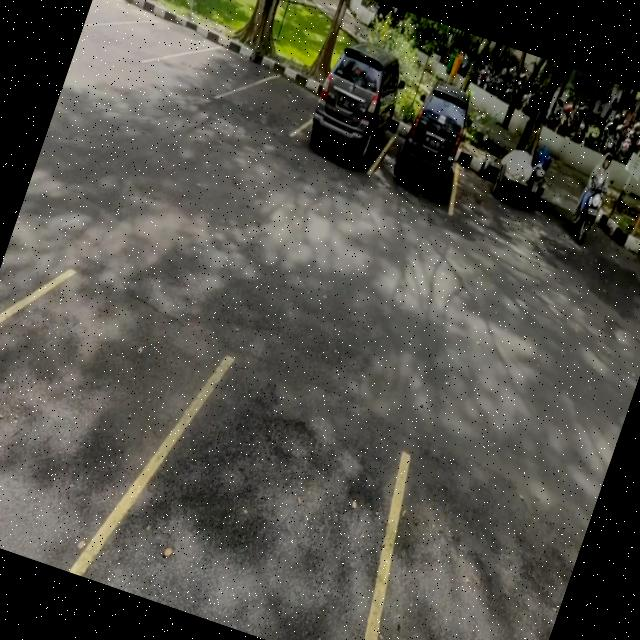empty: (114, 343, 439, 640), (0, 239, 212, 588), (163, 24, 260, 110), (232, 54, 320, 144), (95, 0, 191, 71)
occupied: (290, 48, 407, 182), (370, 80, 484, 214)
